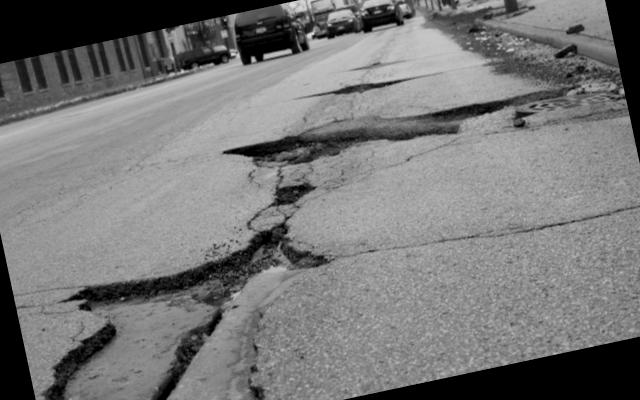Pothole: (222, 46, 632, 211), (19, 210, 367, 400), (304, 57, 436, 119), (338, 40, 412, 82)
